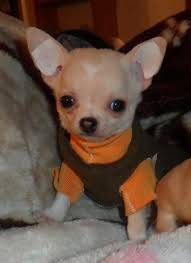chihuahua: (15, 19, 176, 242)
